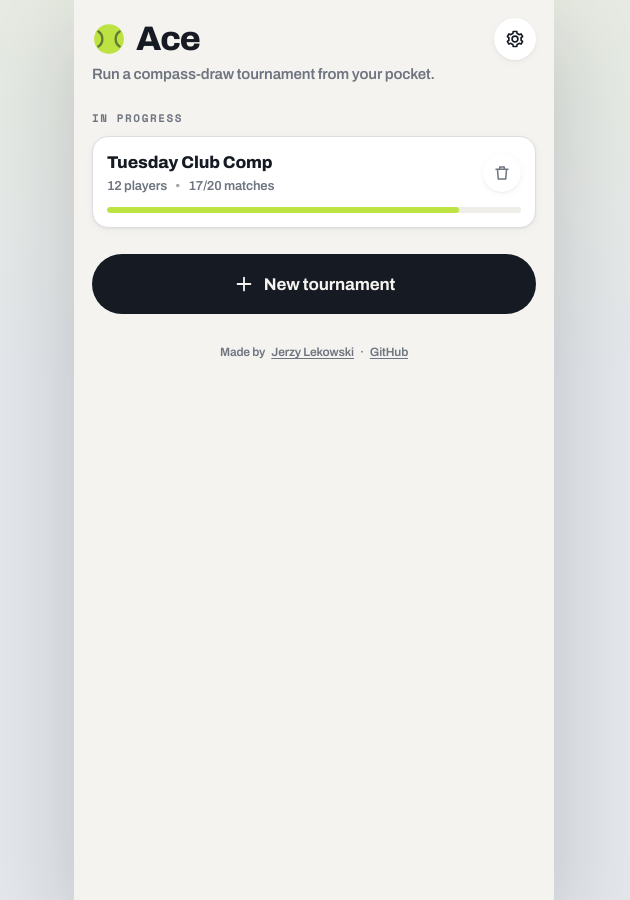
App › resumes the demo and switches between the run-screen tabs
Click the text "Tuesday Club Comp" at (190,163), box [107,153,272,172]
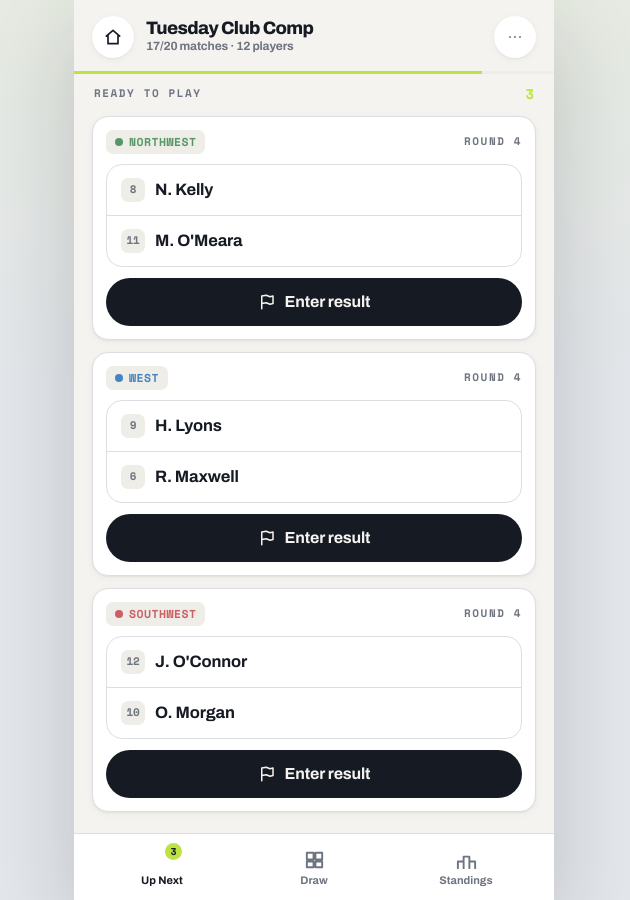
Result: the button "3 Up Next" is shown at [88,842,236,892]
Result: the button "Standings" is shown at [392,842,540,892]
Draw tab → compass sub-draws (East is always the main draw)
Click the button "Draw" at (314,867), box [240,842,388,892]
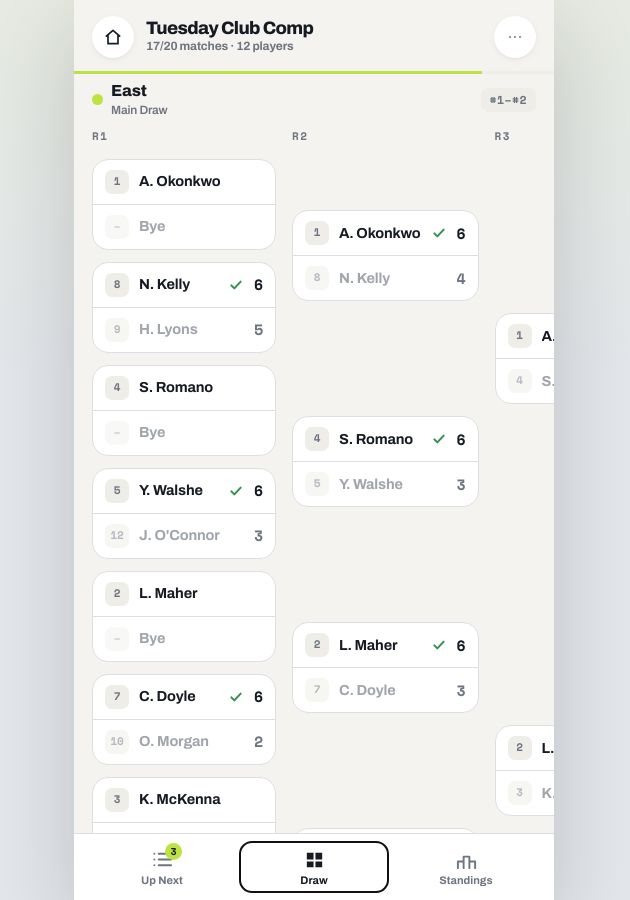
Result: the text "East" is shown at [111,82,147,99]
Standings tab → final standings list with per-player W-L / sets / games
Click the button "Standings" at (466,867), box [392,842,540,892]
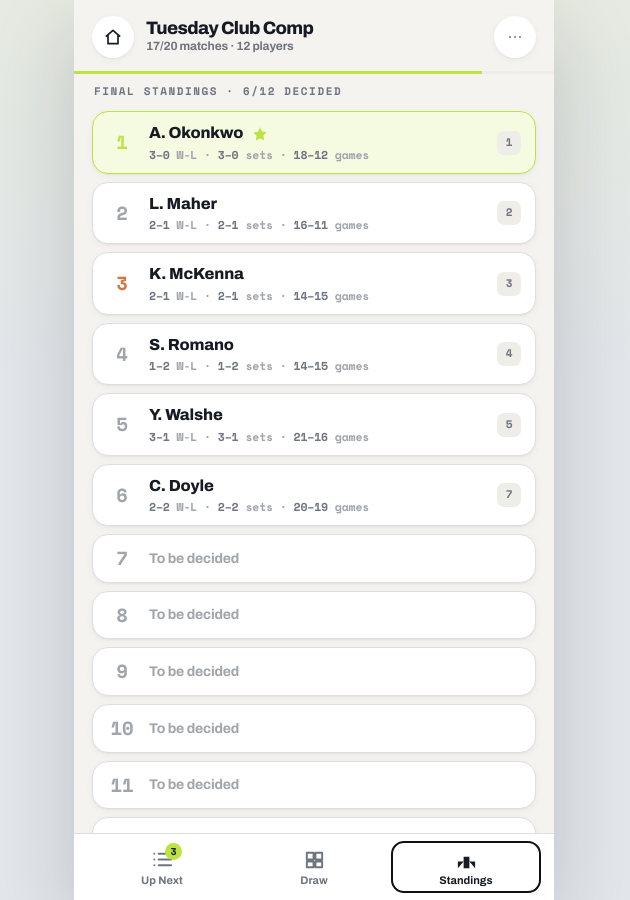
Result: the text "Final standings · 6/12 decided" is shown at [94,83,342,99]
Result: the text "W-L" in the row of "18" is shown at [170,147,197,163]
Result: the text "games" in the row of "18" is shown at [328,147,369,163]
